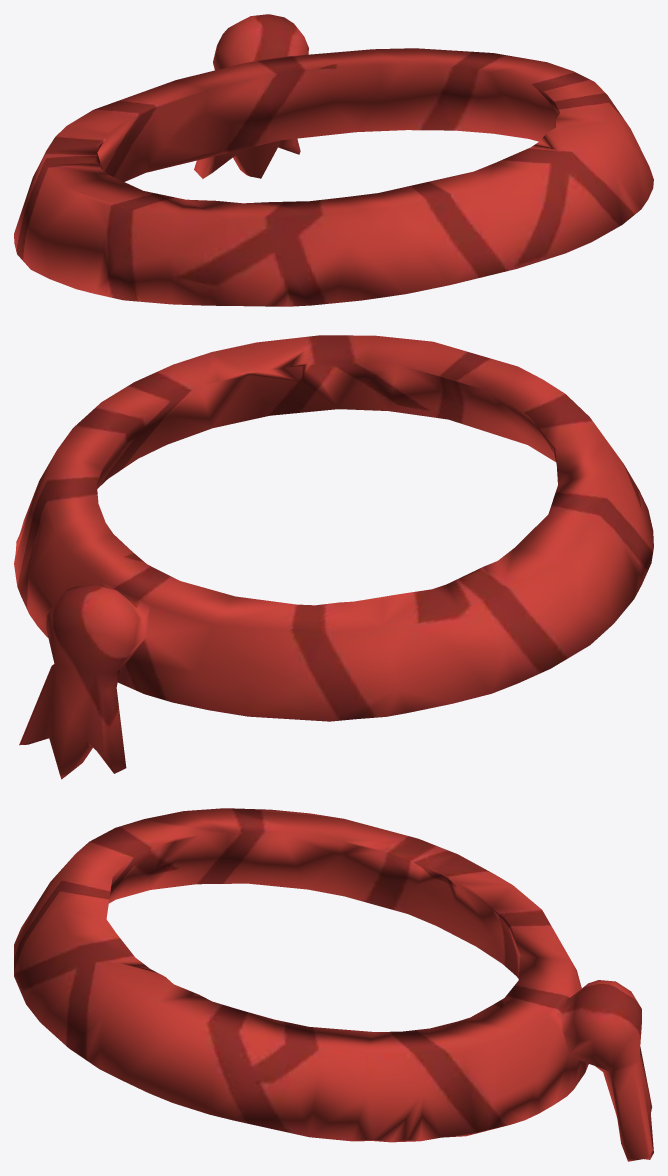
The model's file is swashbuckler-bandana.glb.
3 renders of one model, top to bottom at view 1: azimuth 30°, elevation 25°; view 2: azimuth 150°, elevation 25°; view 3: azimuth 270°, elevation 25°, orthographic. The views are drawn at different scales.
Visible parts, largest first — view 1: bandana; view 2: bandana; view 3: bandana.
Boxes of the visible parts, box(x1,y1,x2,y2) form: bandana: box(14, 14, 653, 306); bandana: box(14, 335, 653, 779); bandana: box(14, 808, 653, 1161).
Size of the model in its own units: 0.4387 by 0.1702 by 0.4456.
1 material, 1 textured.
